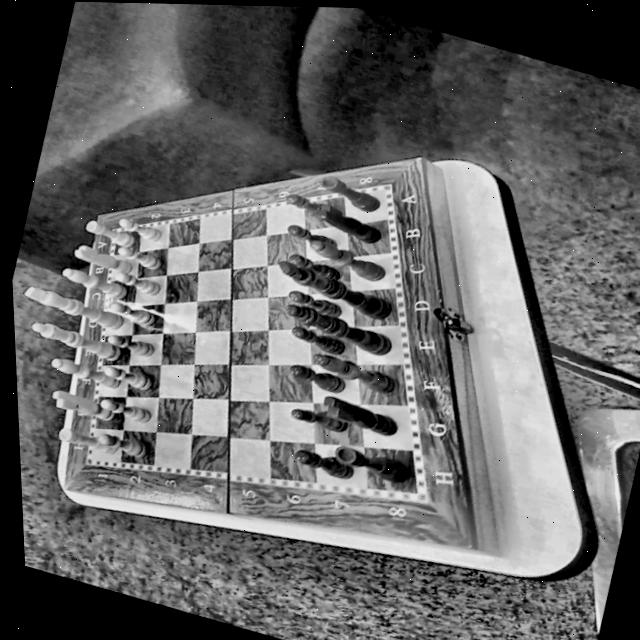chessboard: (93, 189, 410, 491)
